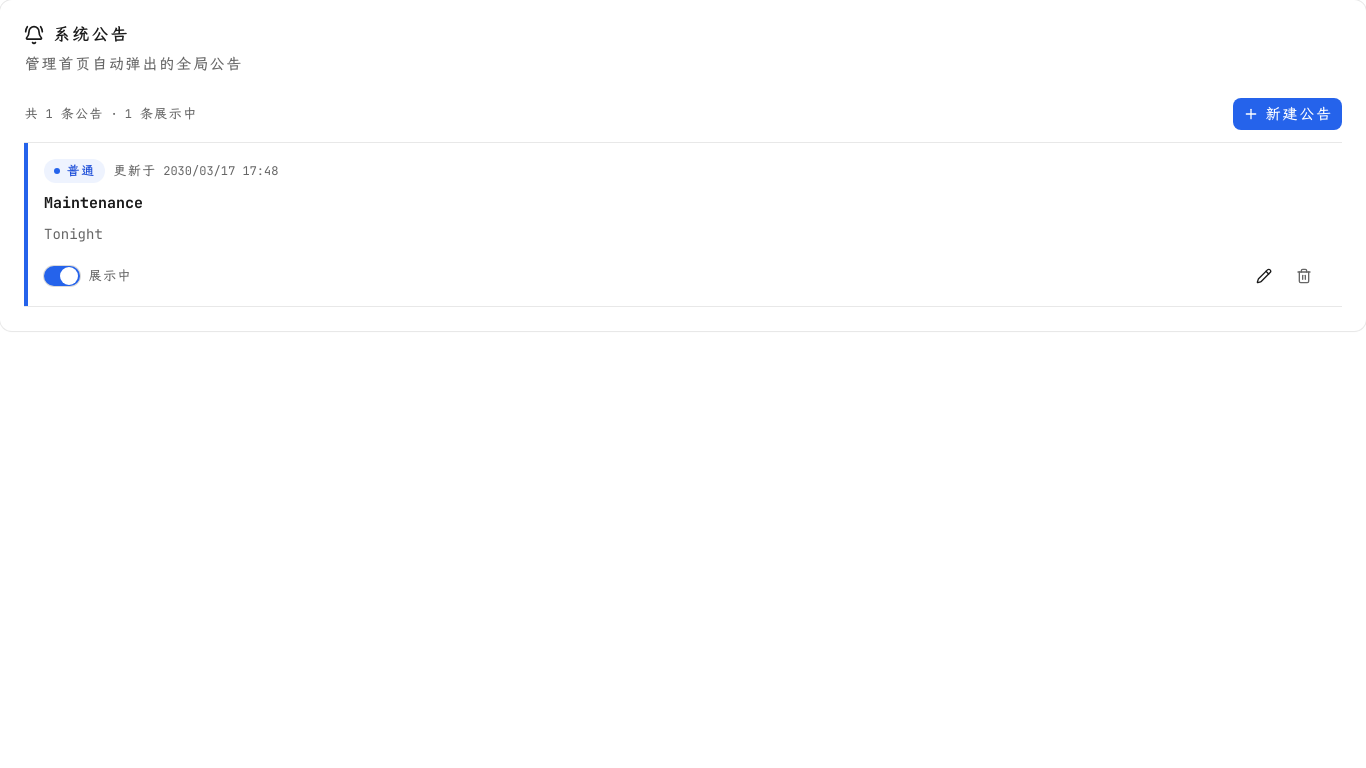
Test case: administrator announcements › retries a failed announcement deletion
Click the button named "删除公告 Maintenance": click(1304, 276) [1286,258,1322,294]
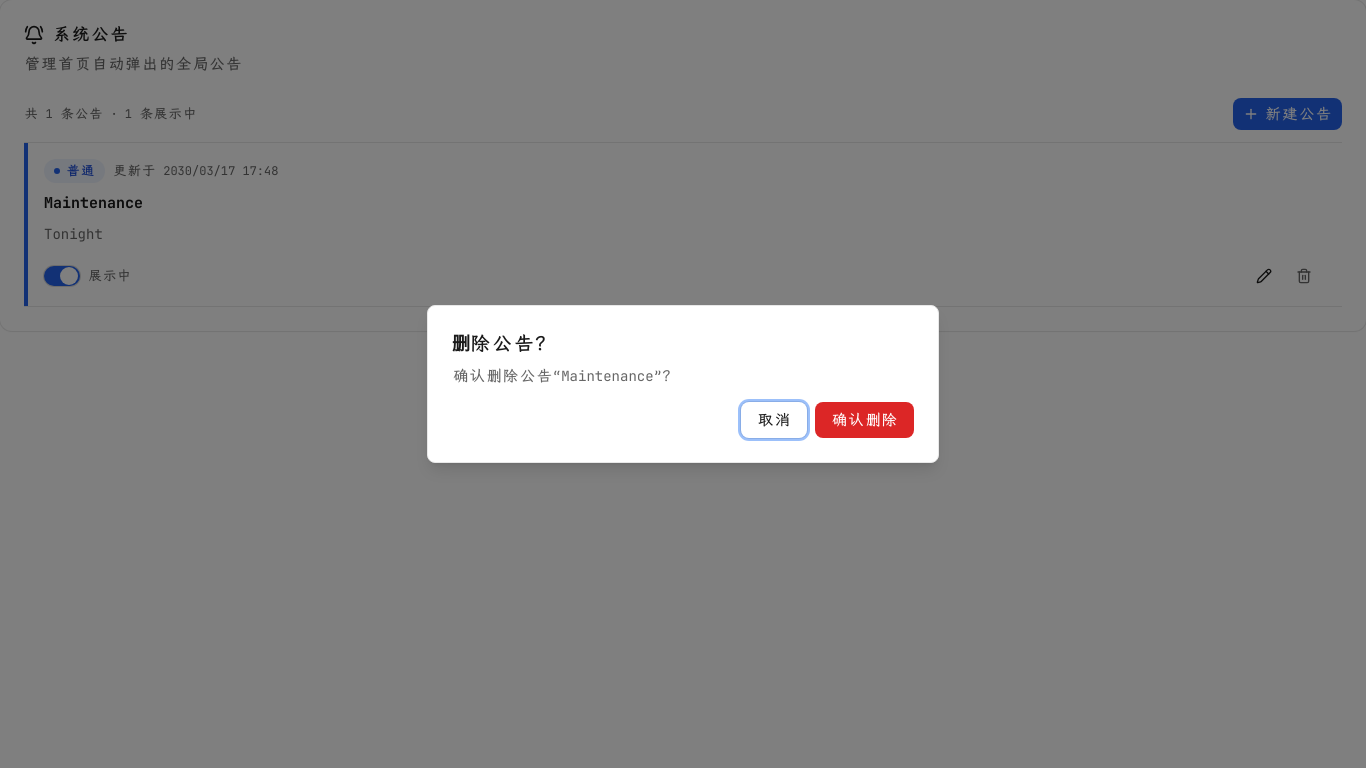
Expected: the dialog "删除公告？" shows "Maintenance", [452,367,679,385]
Click the button "确认删除": click(864, 420) [815,402,914,438]
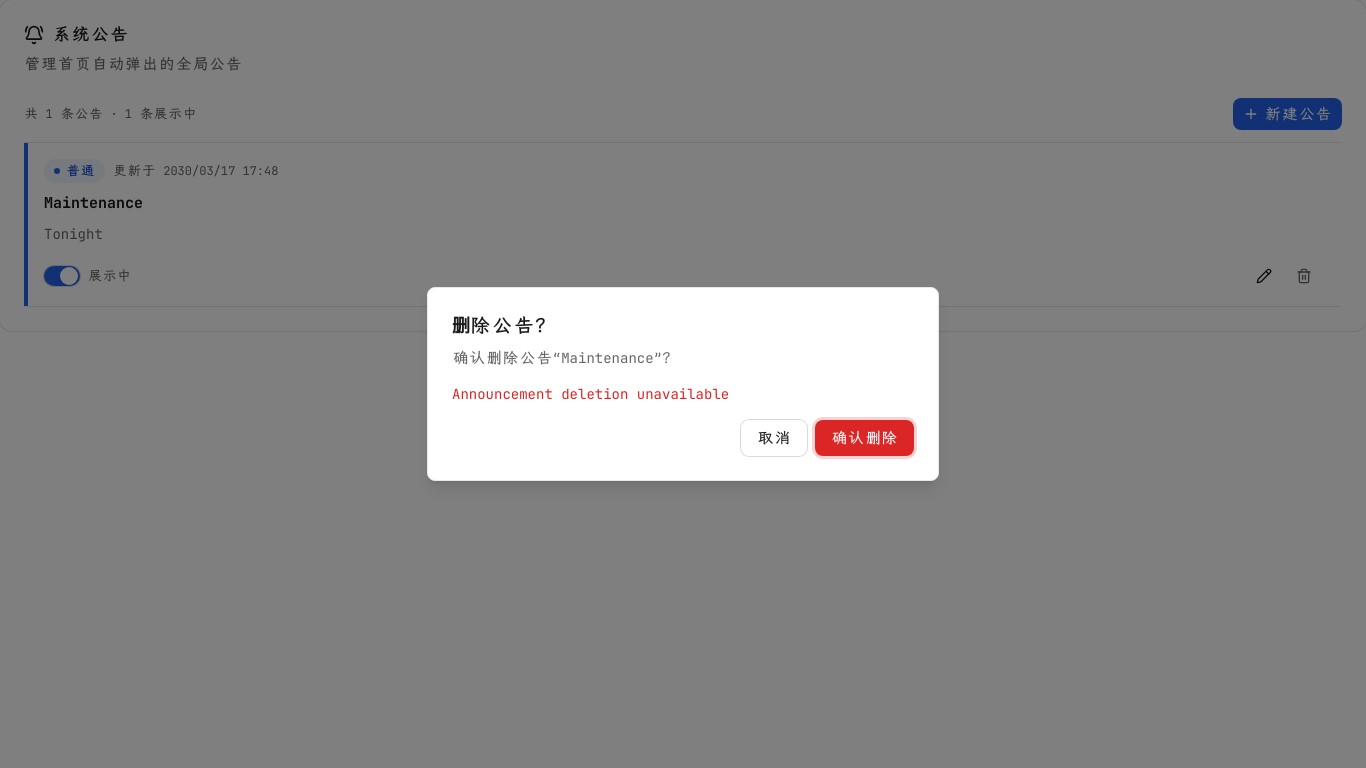
Expected: the dialog "删除公告？" shows "Maintenance", [452,349,679,367]
Expected: the message reads "Announcement deletion unavailable", [452,385,729,403]
Click the button "确认删除": click(864, 438) [815,420,914,456]
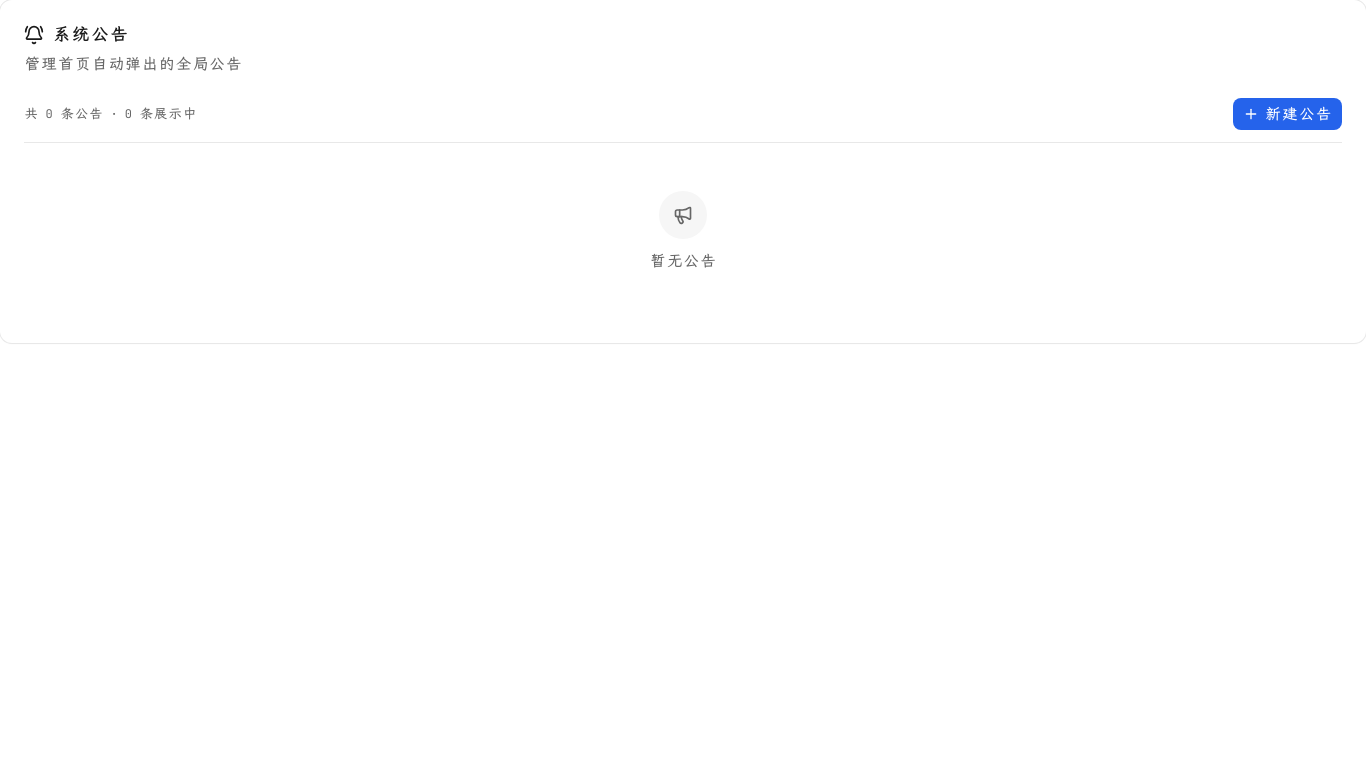
Expected: the text "暂无公告" is shown, [649,251,717,271]
